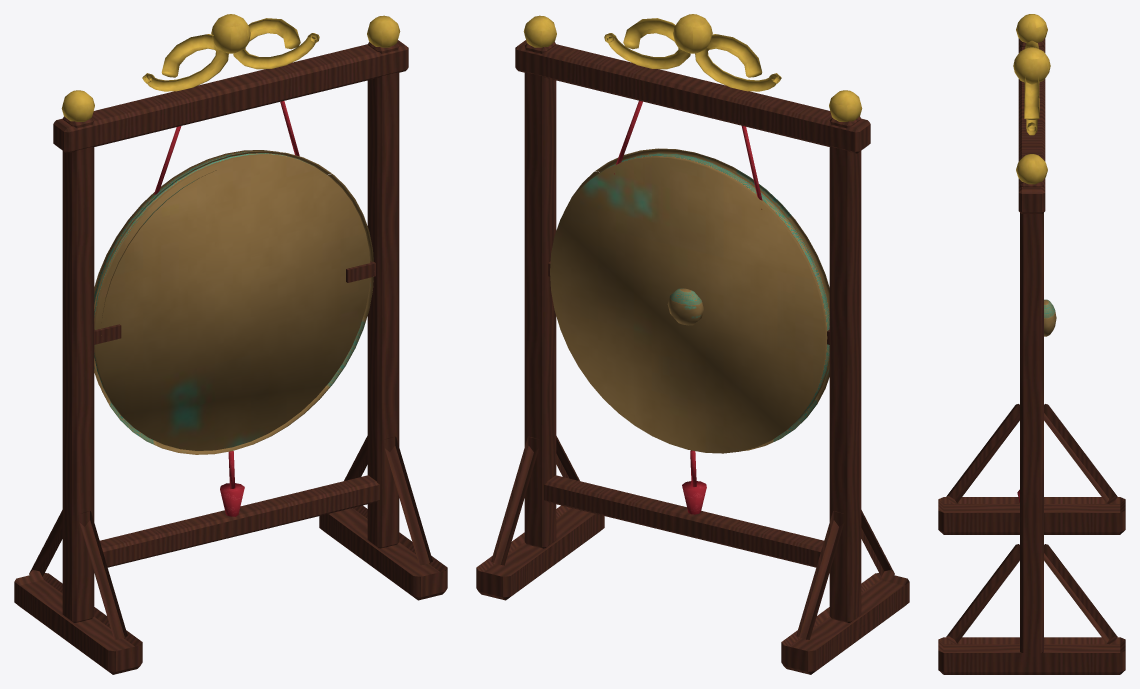
Rendered from bronze_mirror.glb.
3 views of the same model, side by side, from view 1: azimuth 30°, elevation 25°; view 2: azimuth 150°, elevation 25°; view 3: azimuth 270°, elevation 25° (orthographic). The views are drawn at different scales.
Visible parts, largest first — view 1: MirrorBack, MirrorStand, MirrorGilt, MirrorCords; view 2: MirrorBack, MirrorStand, MirrorGilt, MirrorCords; view 3: MirrorStand, MirrorGilt, MirrorBack.
Boxes of the visible parts, x1,y1,x2,y2 form: MirrorBack: (94, 150, 373, 454); MirrorStand: (14, 40, 447, 674); MirrorGilt: (61, 14, 400, 121); MirrorCords: (154, 101, 299, 516); MirrorBack: (550, 148, 829, 453); MirrorStand: (476, 40, 909, 674); MirrorGilt: (523, 14, 862, 121); MirrorCords: (614, 100, 762, 514); MirrorStand: (938, 38, 1125, 674); MirrorGilt: (1013, 14, 1050, 184); MirrorBack: (1044, 299, 1056, 336).
Size of what is drawn, in the model's own units: 1.4 by 2.27 by 0.7.
Materials: 5 (5 with a texture image).
